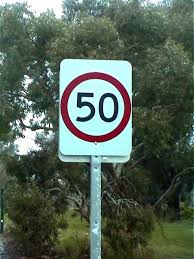sp50: (59, 74, 136, 144)
